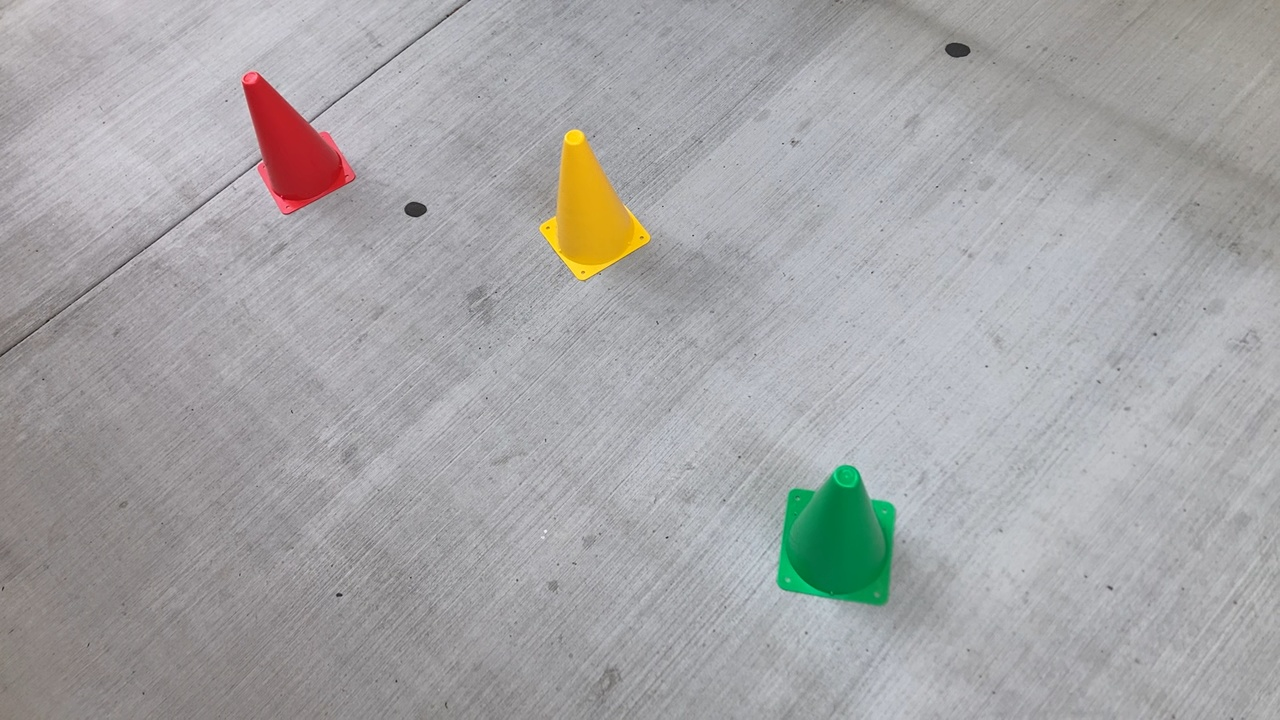green_cone: (771, 458, 903, 615)
red_cone: (237, 68, 365, 221)
yellow_cone: (533, 127, 652, 288)
